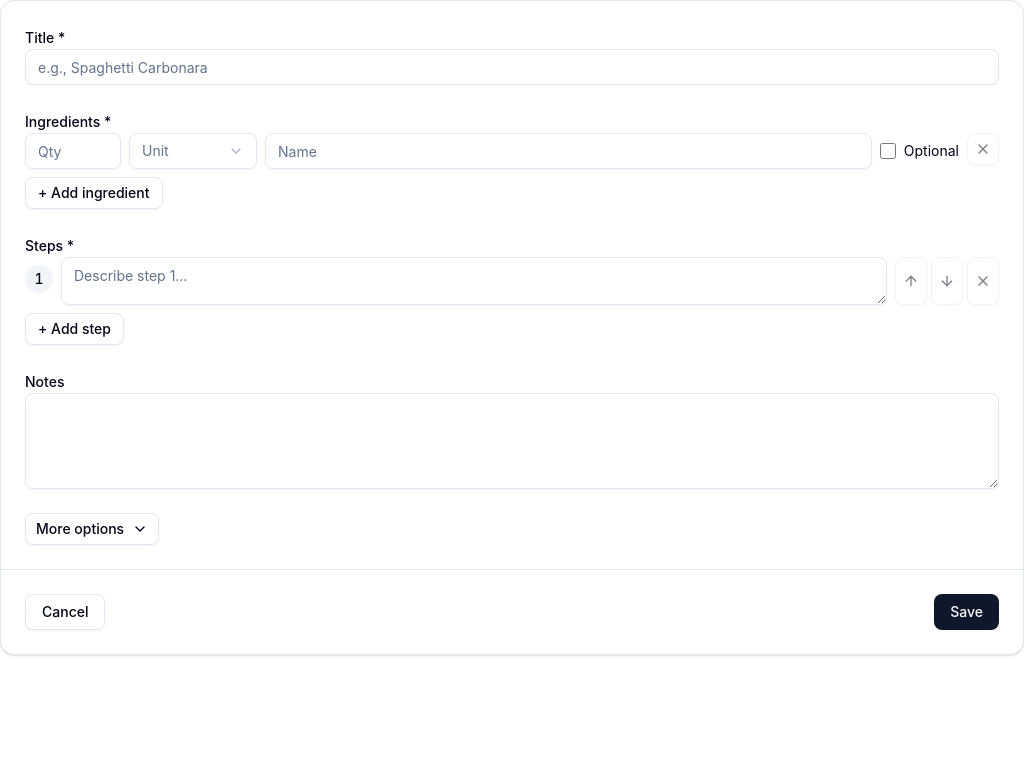
RecipeForm › shows 'Unit is required' when 'Other…' is picked but left empty
The image size is (1024, 768).
In the field labelled "Title *": (512, 67) [25, 49, 999, 85], type "Test Recipe"
Click the dropdown named "unit for ingredient 1": (193, 151) [129, 133, 257, 169]
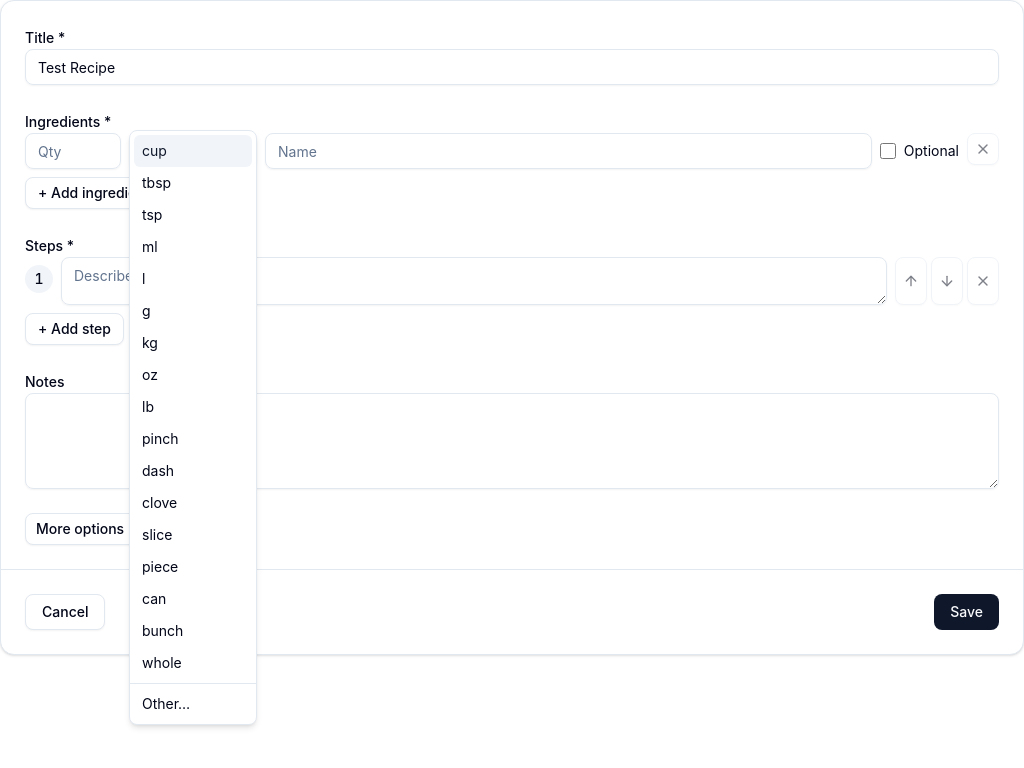
Click the option "Other…": (166, 704) [142, 695, 190, 712]
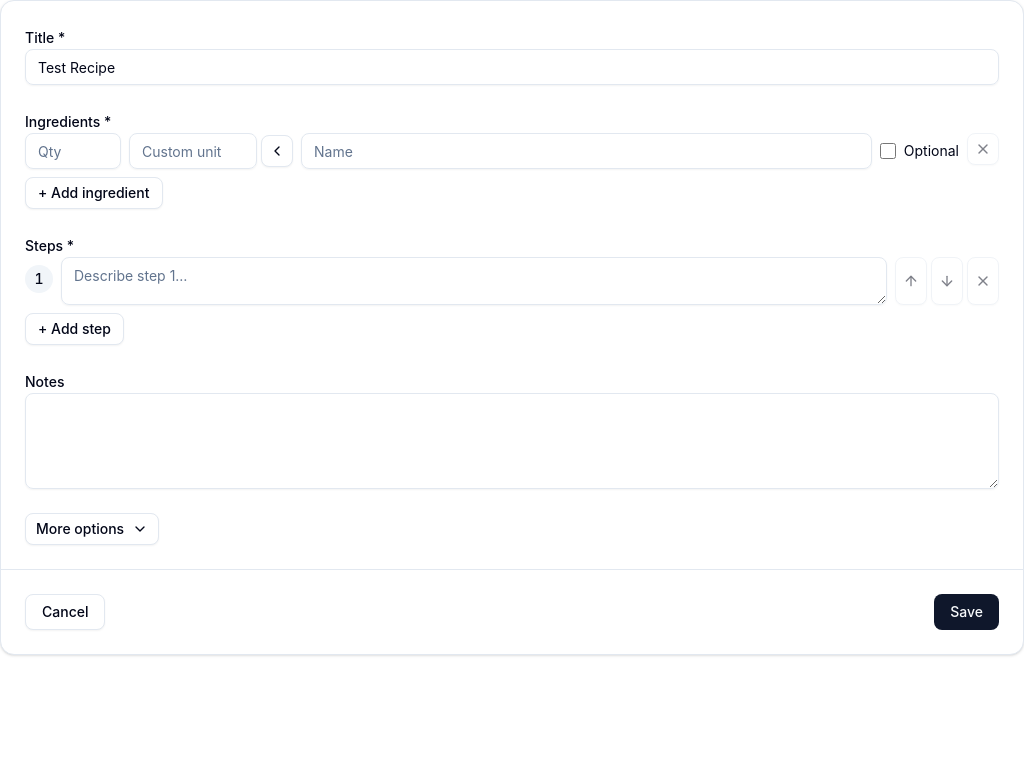
In the field named "name for ingredient 1": (586, 151) [301, 133, 872, 169], type "flour"
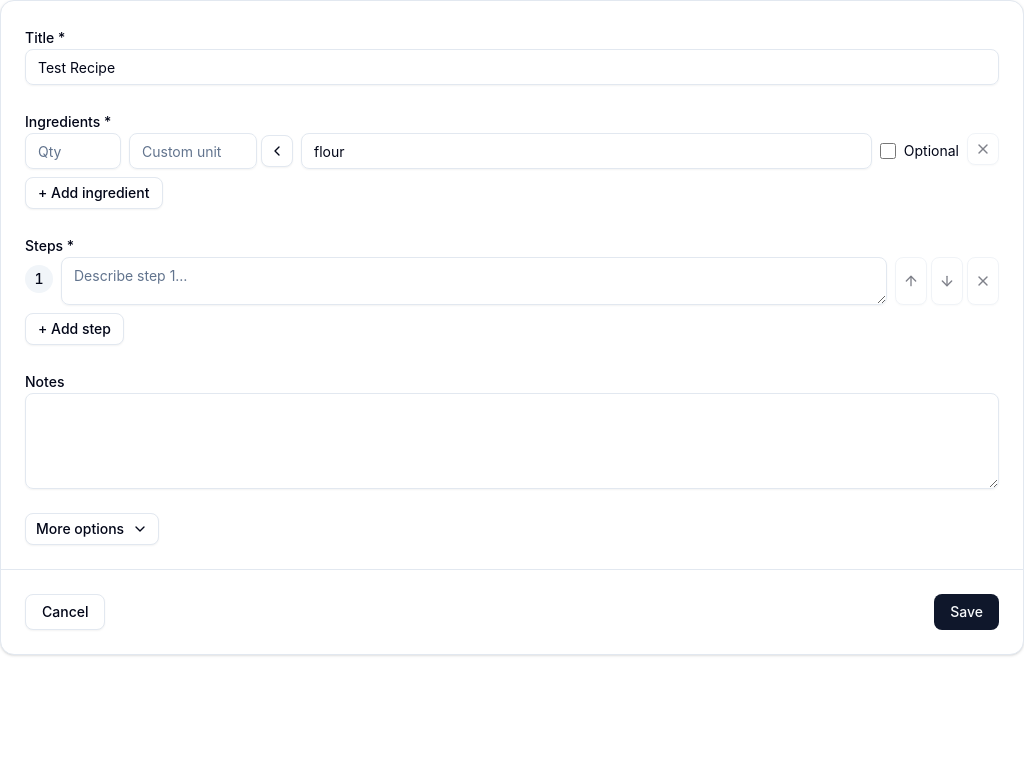
In the number field named "quantity for ingredient 1": (73, 151) [25, 133, 121, 169], type "2"
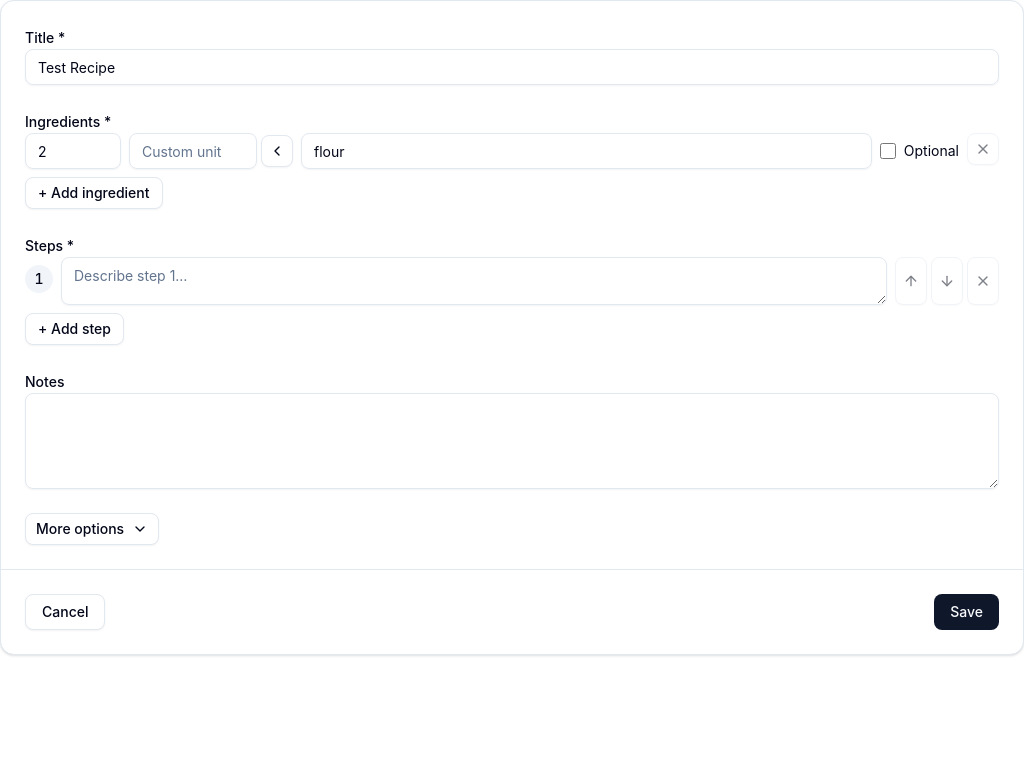
In the text box named "text for step 1": (474, 281) [61, 257, 887, 305], type "Mix and bake."
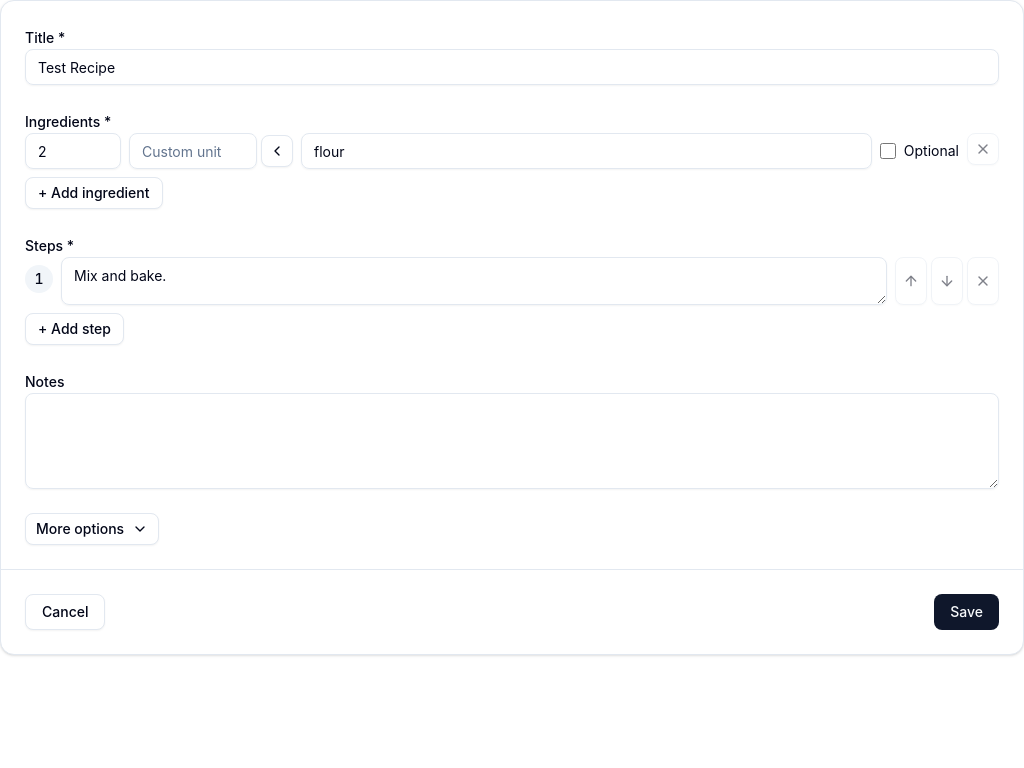
Click the button "Save": (967, 612) [934, 594, 999, 630]
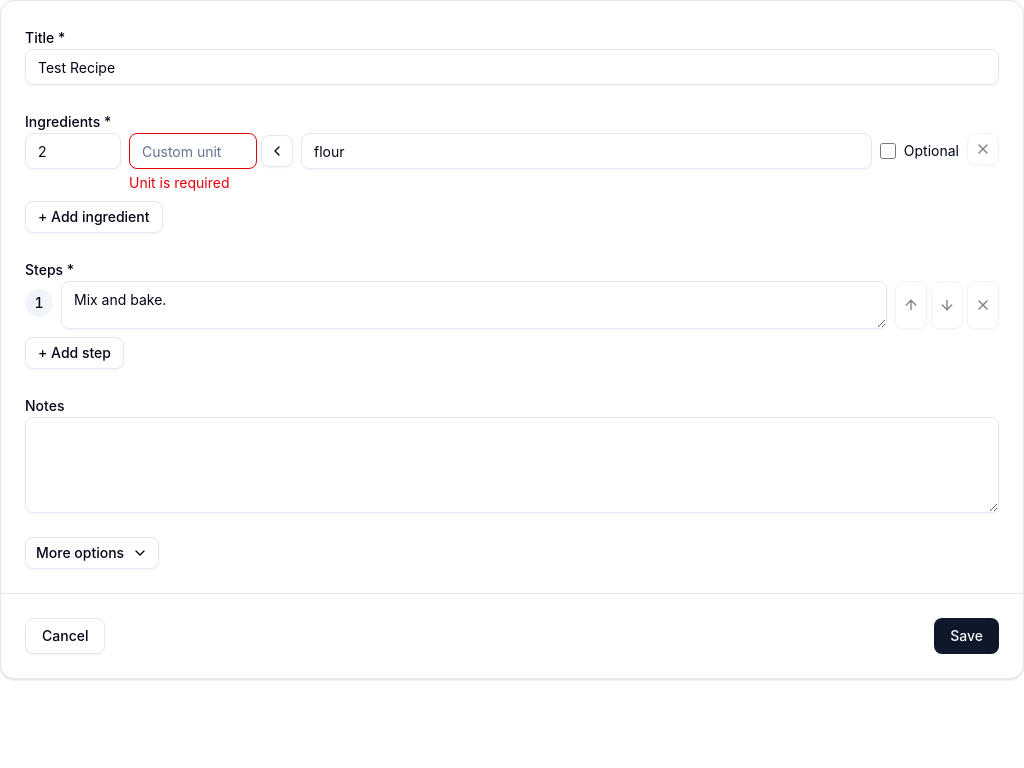
Check: the text "Unit is required" is shown, box [129, 174, 230, 191]
